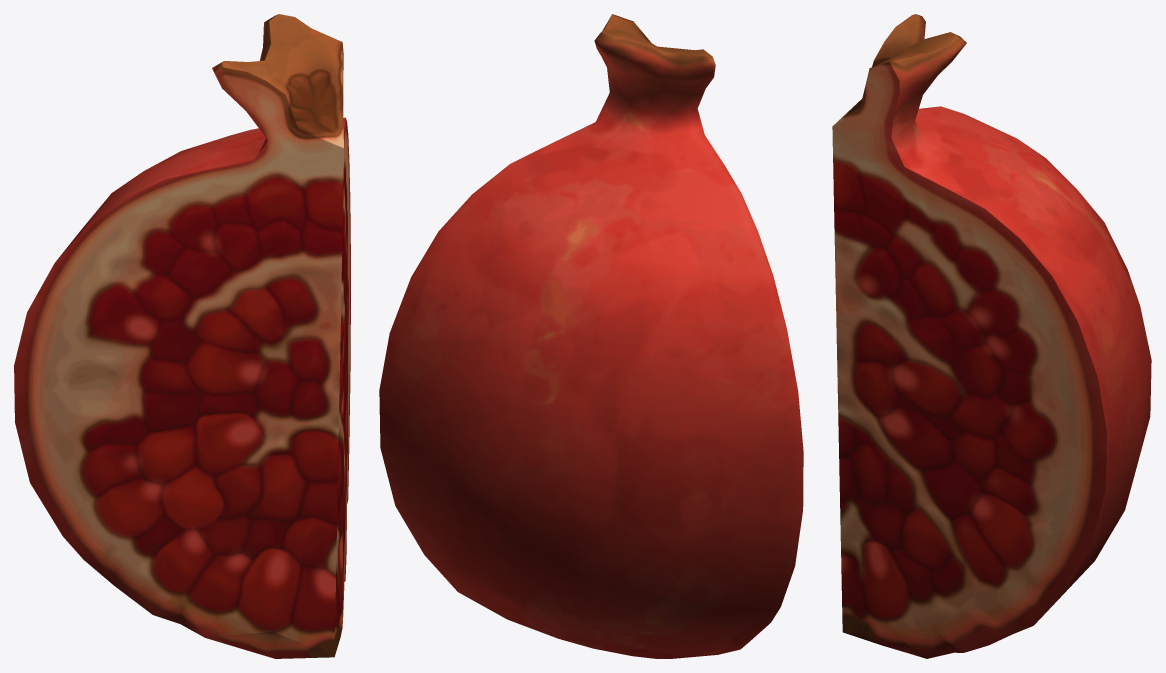
File: SM_PomegranateCutB.fbx
3 views of the same model, side by side, from view 1: azimuth 30°, elevation 25°; view 2: azimuth 150°, elevation 25°; view 3: azimuth 270°, elevation 25° (orthographic). The views are drawn at different scales.
Visible parts, largest first — view 1: SM_PomegranateCutB; view 2: SM_PomegranateCutB; view 3: SM_PomegranateCutB.
Boxes of the visible parts, x1,y1,x2,y2 form: SM_PomegranateCutB: [14, 14, 350, 658]; SM_PomegranateCutB: [379, 14, 803, 658]; SM_PomegranateCutB: [832, 14, 1151, 658].
Bounding box in the file's own units: 12.54 × 19.58 × 9.3.
